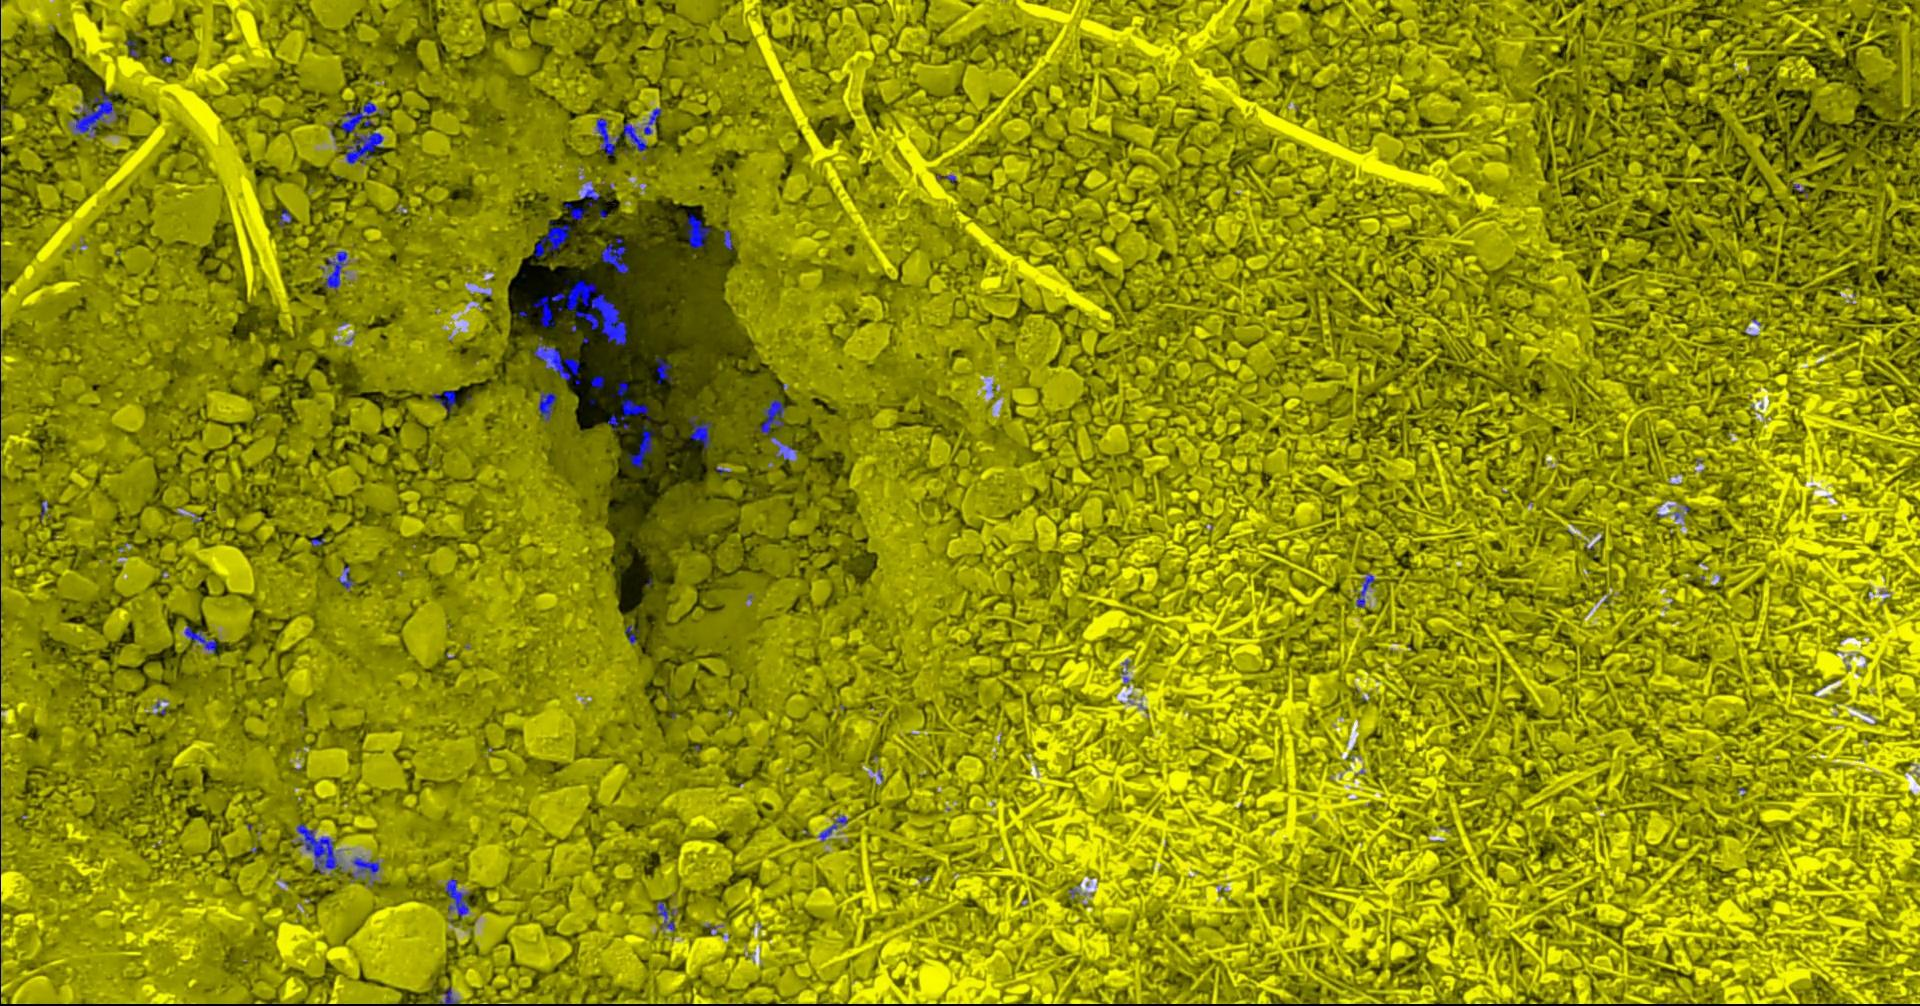ant: (533, 337, 582, 384), (296, 823, 342, 873), (72, 86, 117, 136), (606, 381, 650, 431), (596, 117, 646, 154), (533, 220, 570, 257), (444, 878, 471, 921), (629, 423, 653, 469), (756, 398, 785, 434), (599, 238, 629, 273), (323, 251, 347, 290), (184, 625, 216, 653), (684, 213, 710, 248), (687, 415, 712, 448), (818, 814, 847, 840), (655, 901, 676, 931), (1356, 573, 1374, 607), (350, 857, 378, 878), (432, 389, 455, 412), (643, 108, 662, 133), (538, 391, 555, 420), (655, 357, 672, 384), (437, 986, 458, 1005), (337, 567, 353, 591), (564, 202, 585, 220), (582, 188, 599, 206), (623, 624, 637, 643), (124, 39, 138, 57), (278, 210, 291, 226), (589, 375, 604, 387), (723, 229, 731, 249)
